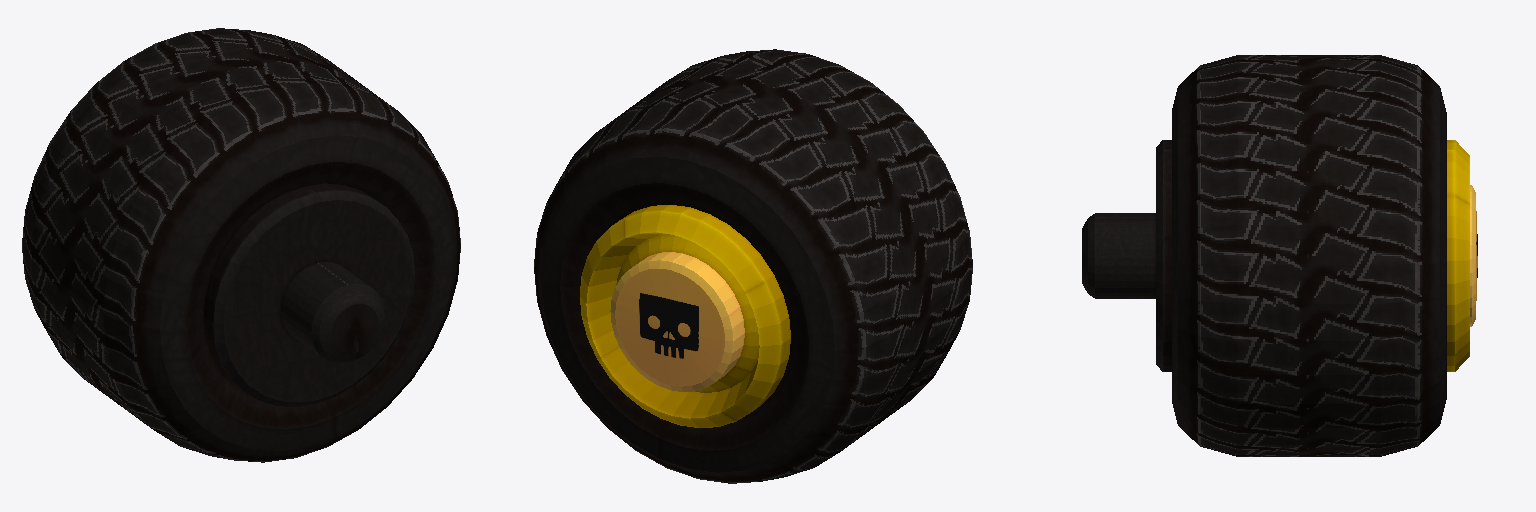
3 views of the same model, side by side, from view 1: azimuth 30°, elevation 25°; view 2: azimuth 150°, elevation 25°; view 3: azimuth 270°, elevation 25° (orthographic).
Parts seen in each view (by area): view 1: wheel2_wheel2.000; view 2: wheel2_wheel2.000; view 3: wheel2_wheel2.000.
Boxes of the visible parts, x1=… form: wheel2_wheel2.000: x1=22, y1=28, x2=460, y2=462; wheel2_wheel2.000: x1=534, y1=49, x2=972, y2=483; wheel2_wheel2.000: x1=1082, y1=55, x2=1477, y2=456.
Size of the model in its own units: 0.7102 by 0.7102 by 0.7006.
1 materials, 1 textured.